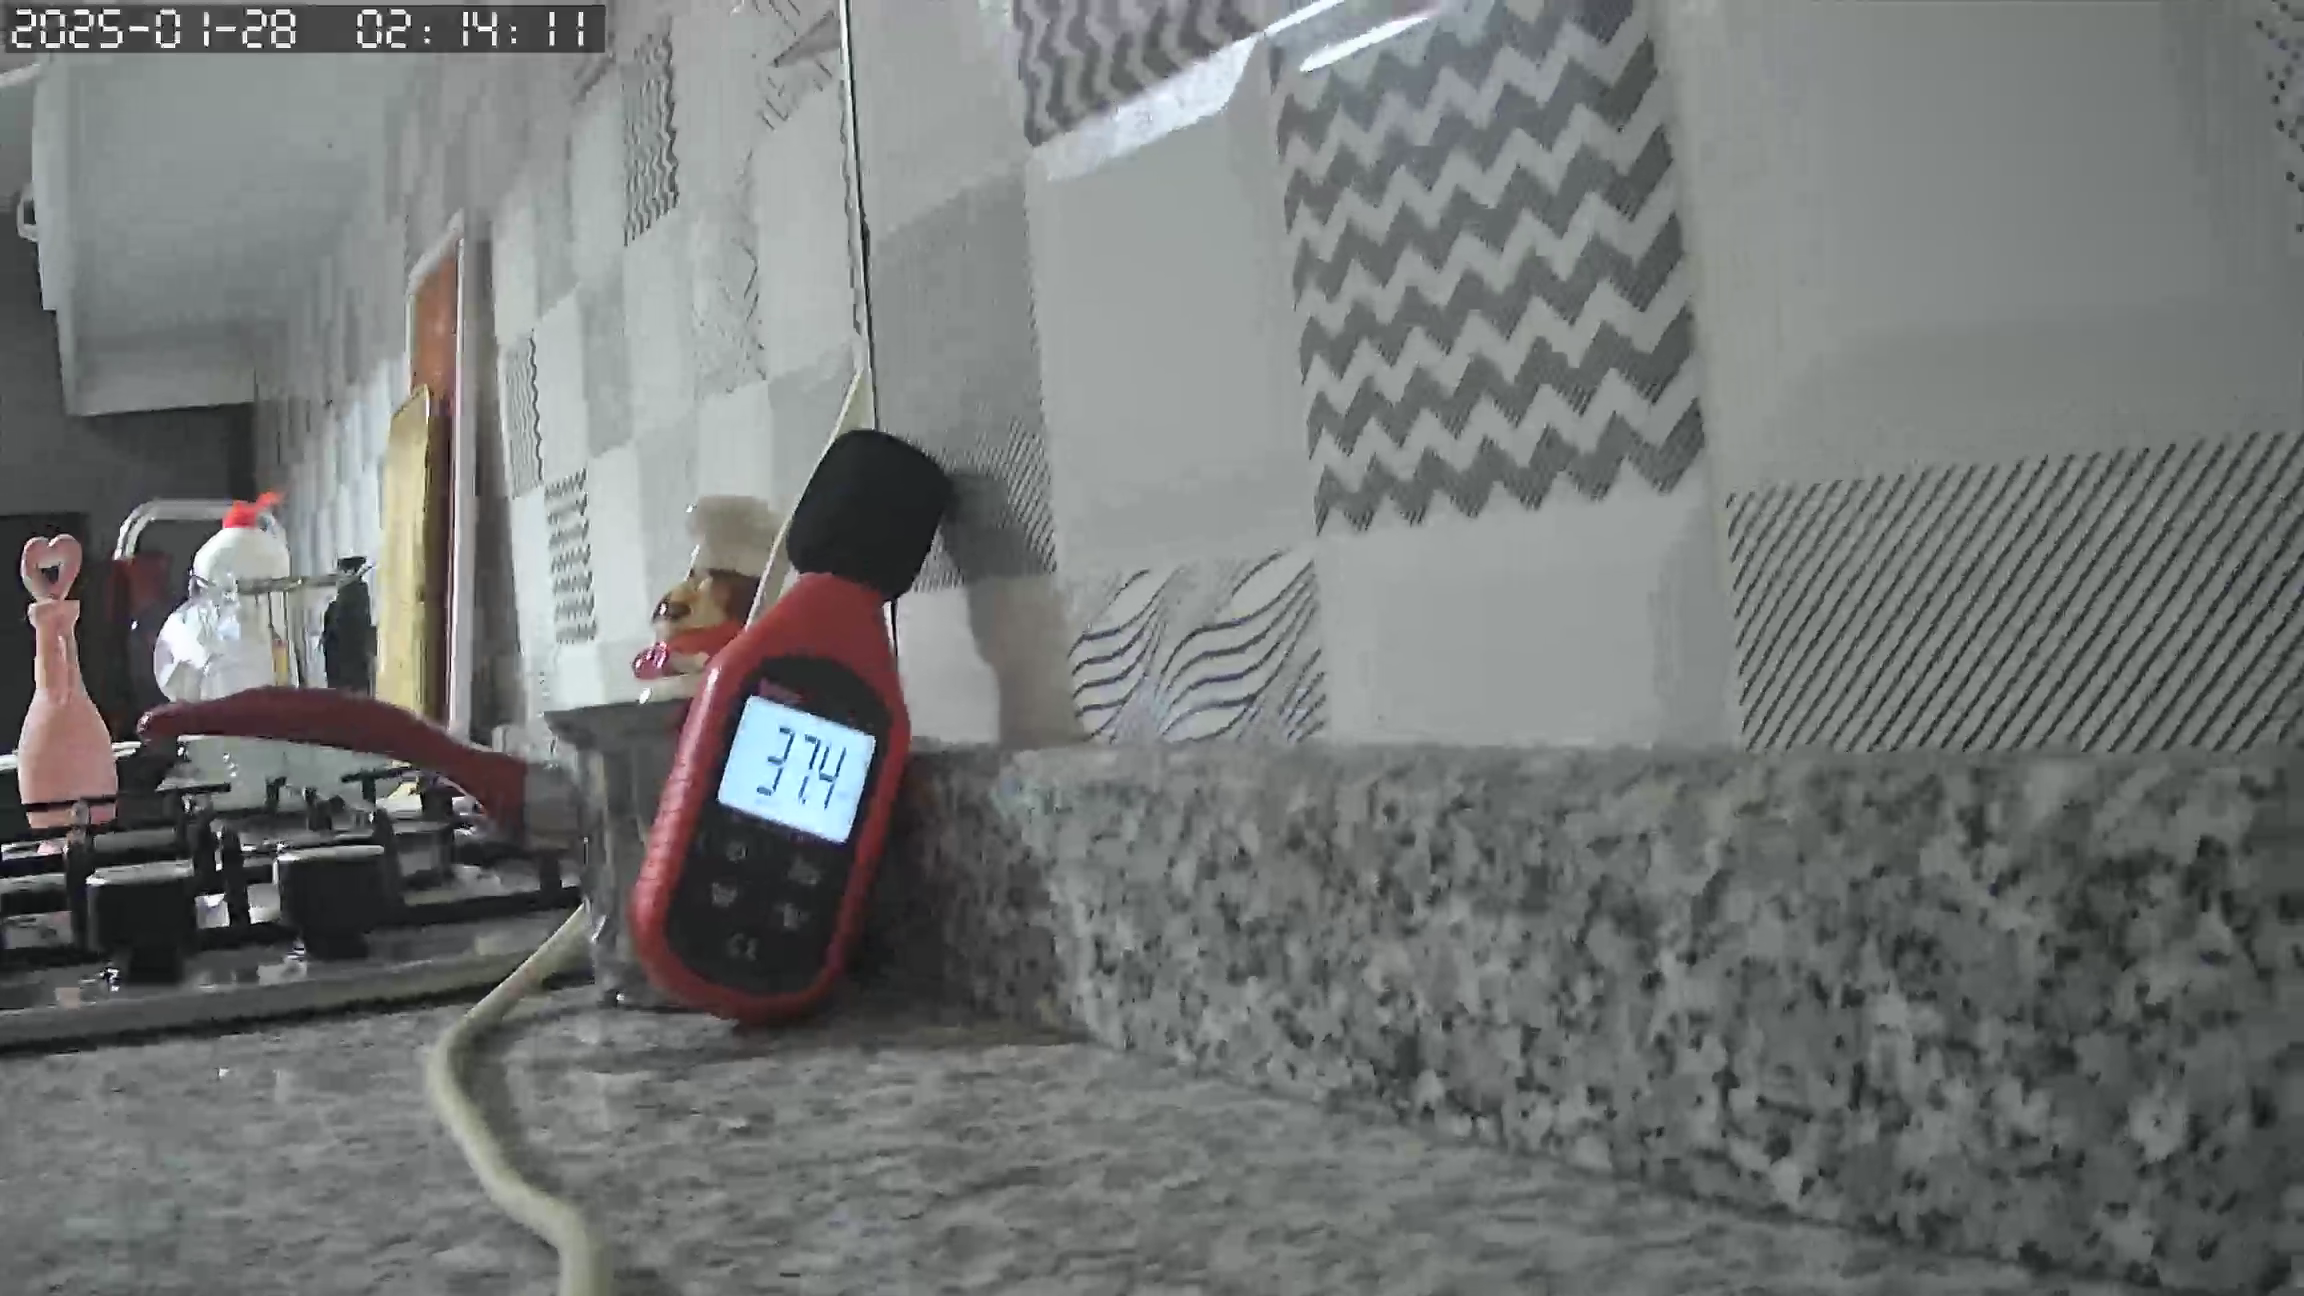screen: (718, 696, 875, 847)
